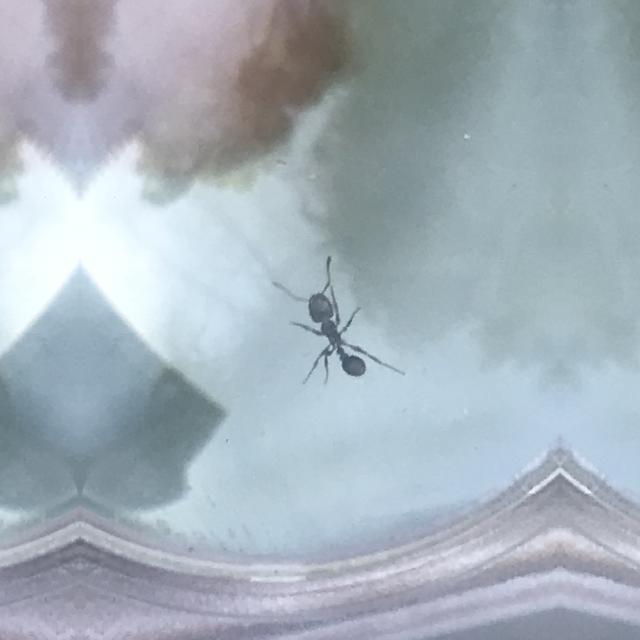Tetramorium: (284, 259, 392, 389)
